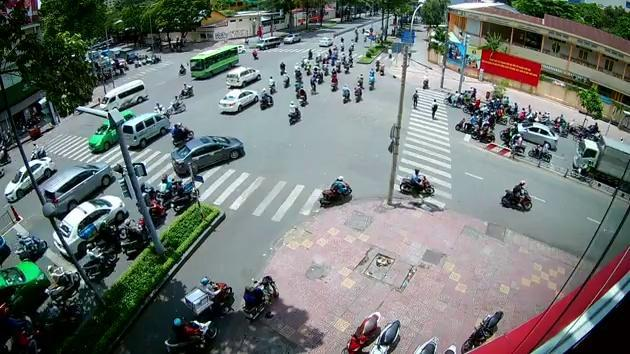xe buyt: (188, 45, 238, 77)
xe hoi: (52, 194, 127, 255), (40, 163, 113, 213), (170, 134, 246, 177), (3, 155, 53, 201), (87, 109, 132, 151), (517, 122, 557, 148), (217, 88, 259, 112), (225, 65, 261, 86)
xe may: (82, 242, 117, 280), (43, 264, 80, 297), (198, 275, 231, 310), (397, 167, 434, 197), (500, 179, 533, 212), (318, 175, 352, 206), (12, 231, 47, 261), (169, 121, 194, 146), (286, 100, 300, 126), (165, 94, 185, 112), (258, 87, 273, 110), (177, 81, 192, 99), (298, 85, 308, 107)
xe tai: (573, 134, 630, 181)
xe van: (122, 112, 170, 148), (98, 78, 147, 109)
